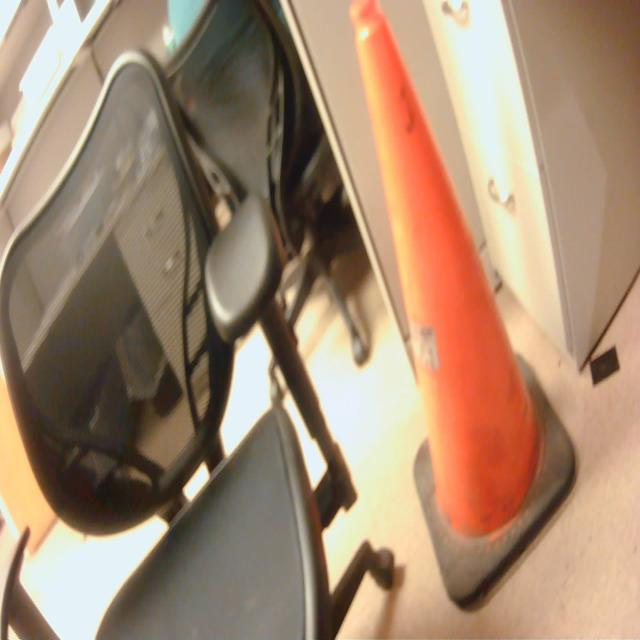traffic cone: (347, 1, 584, 617)
